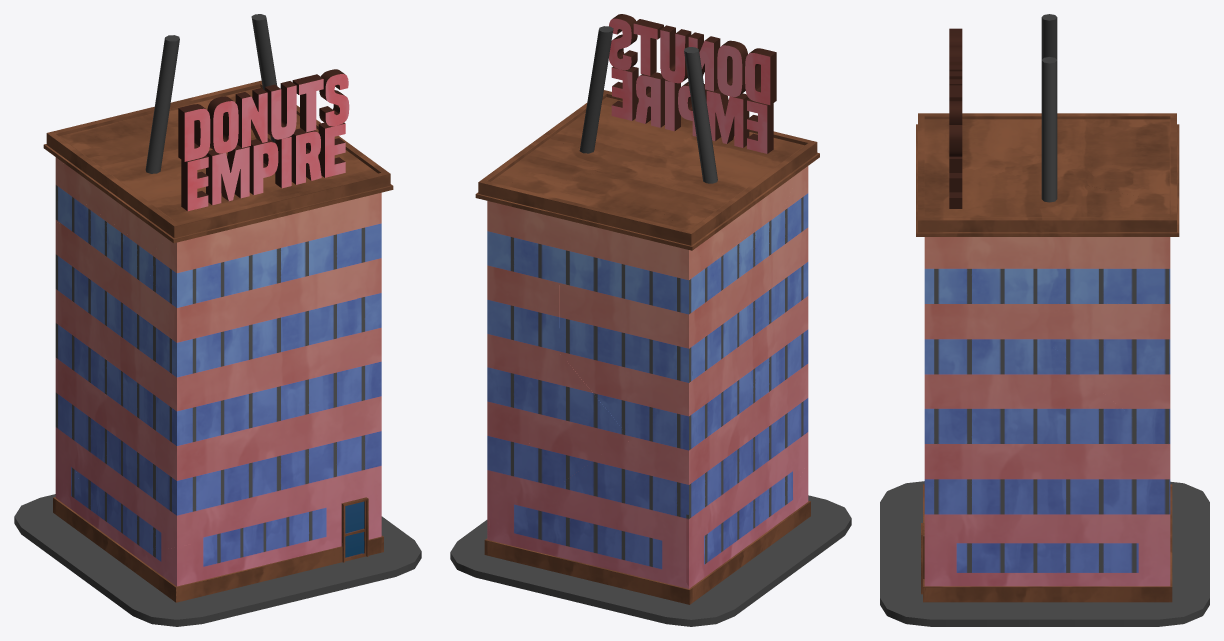
Rendered from DonutStoreParts.fbx.
3 renders of one model, left to right at view 1: azimuth 30°, elevation 25°; view 2: azimuth 150°, elevation 25°; view 3: azimuth 270°, elevation 25°, orthographic. The views are drawn at different scales.
Parts seen in each view (by area): view 1: DonutStore.024, DonutStore.032, DonutStore.016, DonutStore.026, DonutStore.023, DonutStore.035, DonutStore.029, DonutStore.034, DonutStore.031, DonutStore.021, DonutStore.017, DonutStore.025 (+19 smaller); view 2: DonutStore.028, DonutStore.020, DonutStore.027, DonutStore.016, DonutStore.026, DonutStore.031, DonutStore.021, DonutStore.041, DonutStore.032, DonutStore.001, DonutStore.022, DonutStore.042 (+23 smaller); view 3: DonutStore.029, DonutStore.017, DonutStore.016, DonutStore.030, DonutStore.018, DonutStore.036, DonutStore.021, DonutStore.028, DonutStore.022, DonutStore.037, DonutStore.020, DonutStore.003 (+8 smaller).
Part boxes in pixels (x1,y1,x2,y2): DonutStore.024: (216, 214, 358, 458); DonutStore.032: (117, 381, 284, 548); DonutStore.016: (14, 494, 421, 626); DonutStore.026: (59, 193, 152, 385); DonutStore.023: (147, 189, 318, 329); DonutStore.035: (280, 439, 383, 568); DonutStore.029: (284, 289, 381, 461); DonutStore.034: (195, 482, 313, 596); DonutStore.031: (55, 294, 117, 480); DonutStore.021: (49, 135, 227, 239); DonutStore.017: (301, 135, 393, 294); DonutStore.025: (153, 284, 215, 418); DonutStore.028: (487, 248, 626, 482); DonutStore.020: (525, 172, 704, 315); DonutStore.027: (559, 284, 692, 433); DonutStore.016: (450, 495, 851, 626); DonutStore.026: (692, 220, 784, 388); DonutStore.031: (625, 383, 749, 536); DonutStore.021: (597, 143, 774, 266); DonutStore.041: (557, 438, 688, 540); DonutStore.032: (750, 334, 808, 483); DonutStore.001: (712, 448, 792, 581); DonutStore.022: (634, 116, 819, 220); DonutStore.042: (576, 519, 689, 604); DonutStore.029: (924, 335, 1083, 486); DonutStore.017: (916, 184, 1044, 340); DonutStore.016: (880, 481, 1209, 626); DonutStore.030: (1024, 382, 1152, 557); DonutStore.018: (1045, 185, 1152, 367); DonutStore.036: (923, 481, 1069, 602); DonutStore.021: (1009, 113, 1170, 191); DonutStore.028: (1078, 305, 1170, 434); DonutStore.022: (916, 113, 1008, 186); DonutStore.037: (1045, 558, 1171, 602); DonutStore.020: (1088, 113, 1179, 208); DonutStore.003: (1041, 57, 1057, 202).
Bounding box in the file's own units: 5.9 × 10.24 × 5.9.
